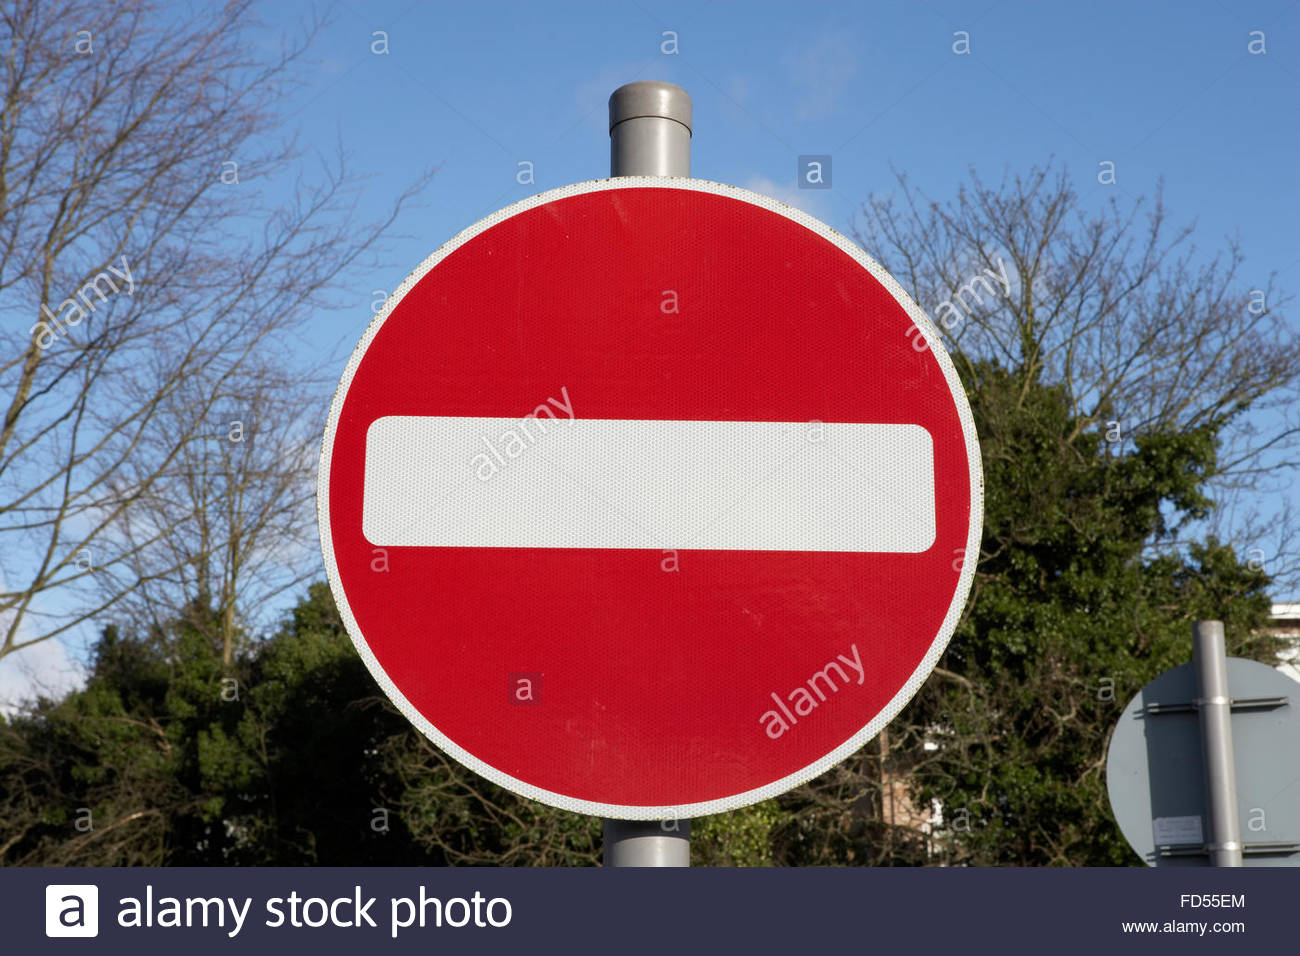No_entry: (314, 175, 988, 825)
